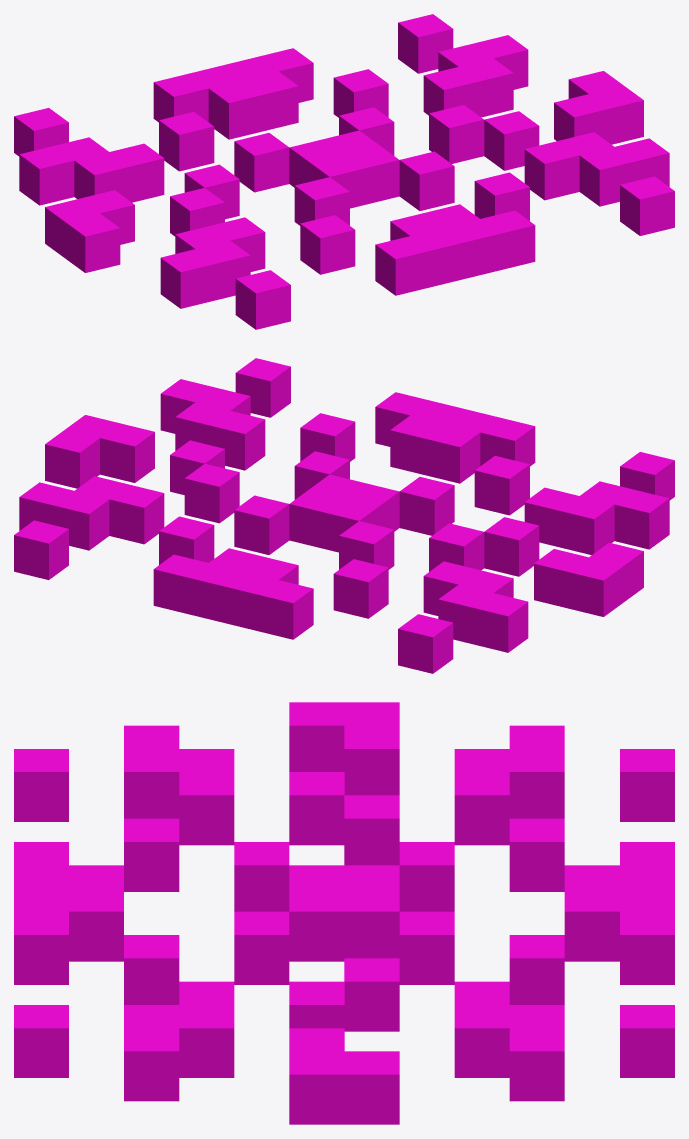
Rendered from cubi mappa1.fbx.
3 renders of one model, top to bottom at view 1: azimuth 30°, elevation 25°; view 2: azimuth 150°, elevation 25°; view 3: azimuth 270°, elevation 25°, orthographic. The views are drawn at different scales.
Parts seen in each view (by area): view 1: Cube__53_; view 2: Cube__53_; view 3: Cube__53_.
Boxes of the visible parts, box(x1,y1,x2,y2) form: Cube__53_: box(14, 14, 674, 329); Cube__53_: box(14, 358, 674, 673); Cube__53_: box(14, 702, 674, 1124).
Size of the model in its own units: 1600 by 100 by 1200.
